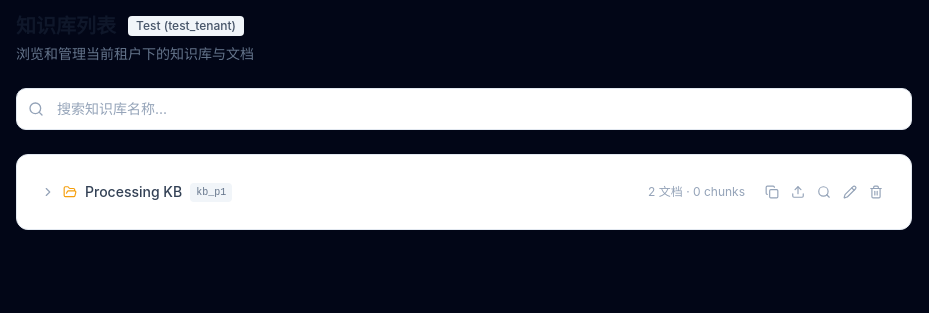
Test: Phase 5 Integration › PROCESSING 文档轮询与按钮状态 › PROCESSING 状态的文档应启动轮询并最终更新为 SUCCESS
This screenshot has width=929, height=313.
Expected: the text "Processing KB" is shown, [85,182,182,202]
Click the text "Processing KB" at (134, 192), box [41,181,887,203]
Wait 10500 ms
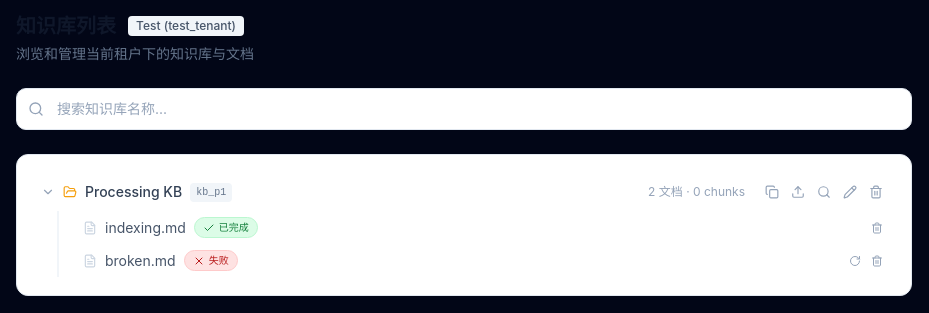
Result: the text "已完成" is shown at [194,217,258,238]
